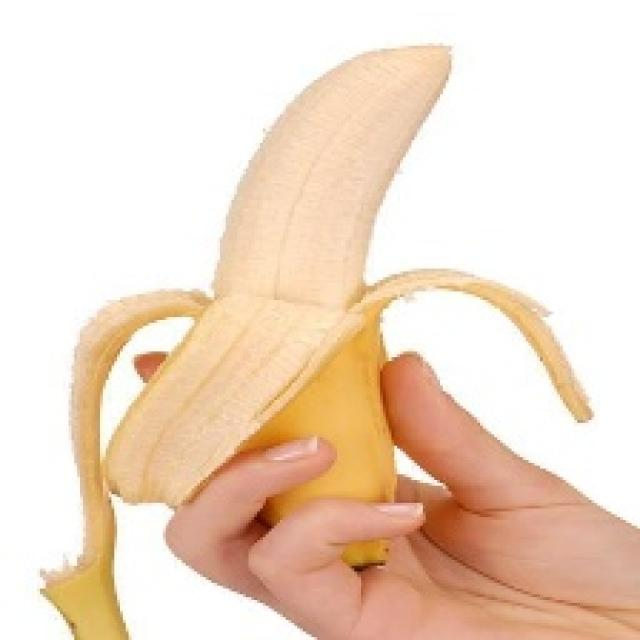Banana: (37, 40, 592, 637)
